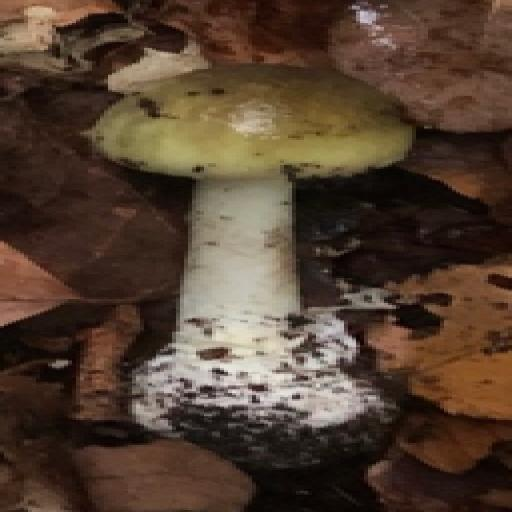mushroom: (86, 57, 407, 476)
